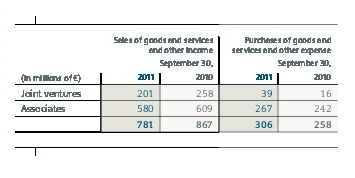table: (0, 0, 355, 178)
